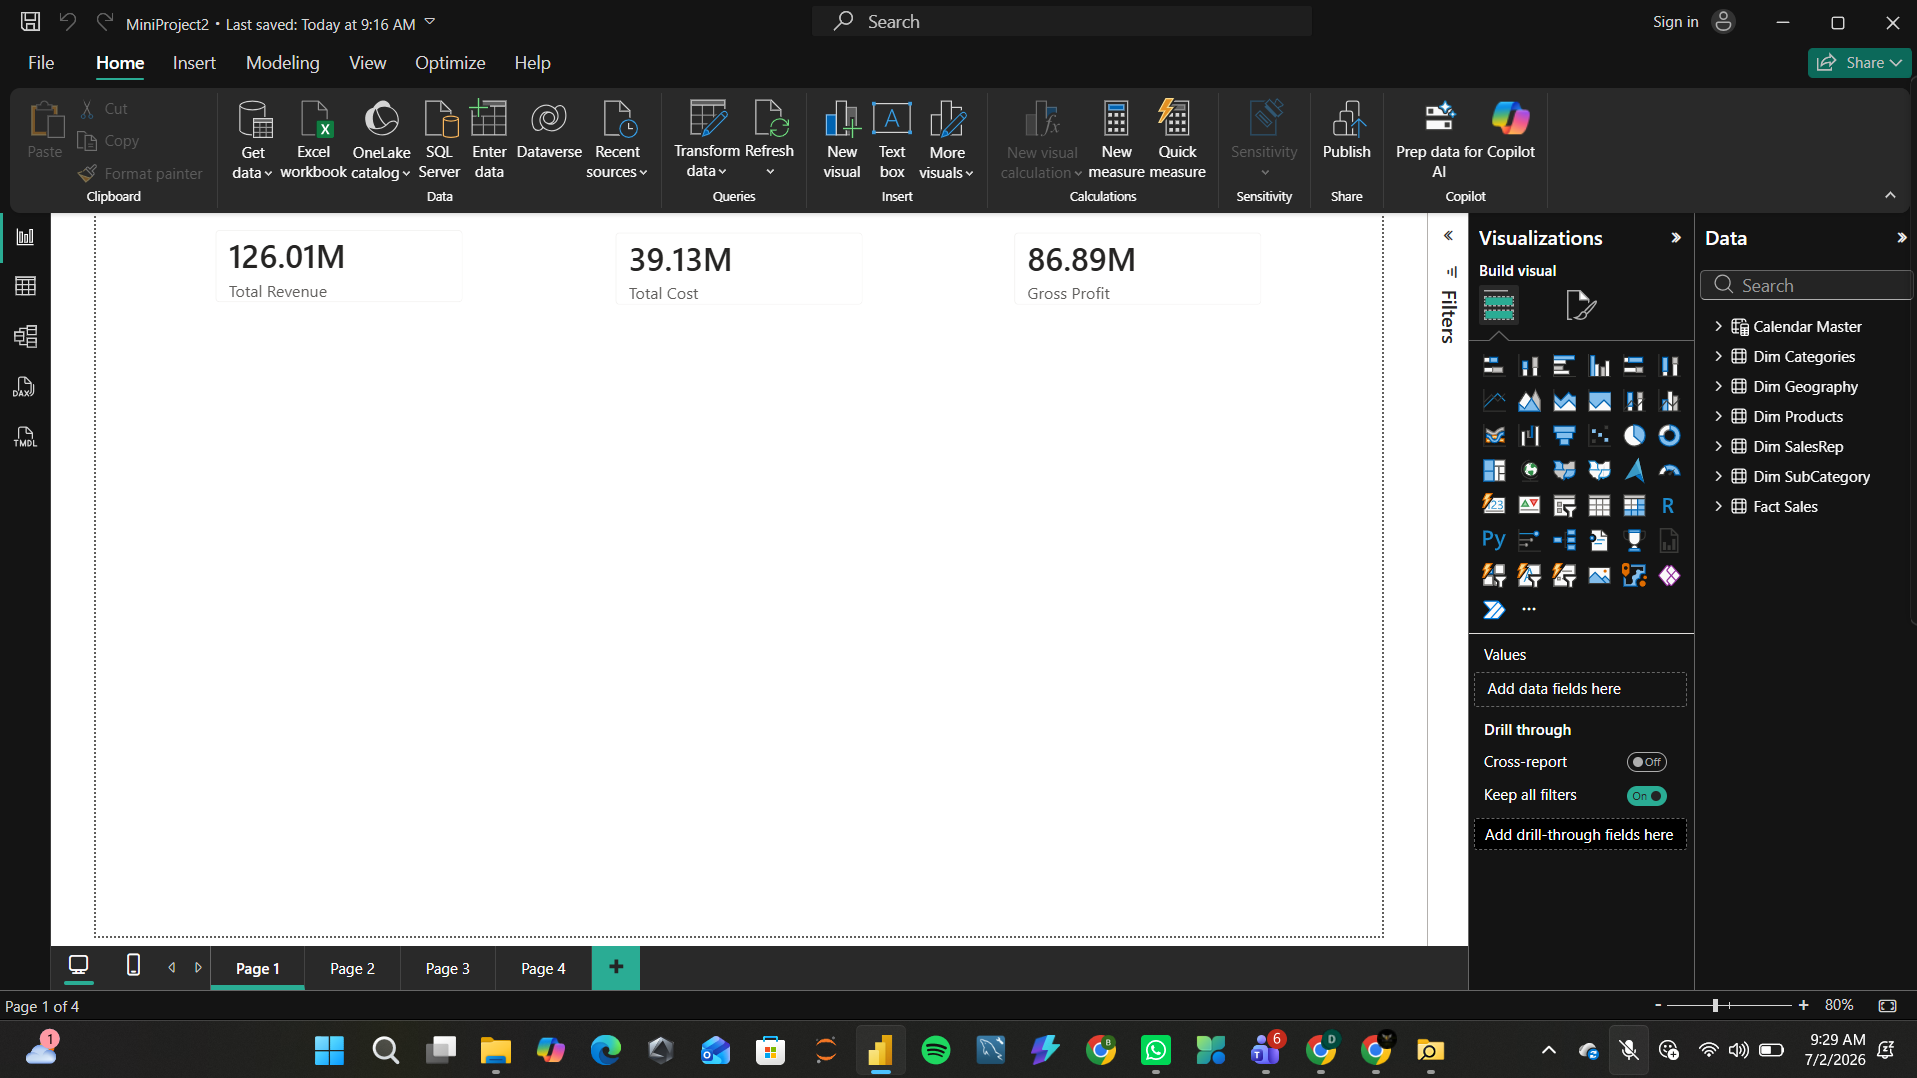

This screenshot's page, from the dashboard's own definition file:
{"tool":"powerbi","page":{"name":"Page 1","canvas":[1280,720],"ordinal":0},"visuals":[{"type":"cardVisual","fields":{"Data":["Fact Sales.Total Revenue"]},"box":[102.1,0,281,106.9],"z":0},{"type":"cardVisual","fields":{"Data":["Fact Sales.Total Cost"]},"box":[499.5,2.4,281,106.9],"z":1000},{"type":"cardVisual","fields":{"Data":["Fact Sales.Gross Profit"]},"box":[897,2.4,281,106.9],"z":2000}]}

Visuals, with their boxes on the page's 1280x720 design canvas (x1, y1, x2, y2). These are canvas units, not pixel positions in the 1917x1078 screenshot, which may show the page scaled, cropped or inside an application window:
cardVisual - Fact Sales.Total Revenue: box(102, 0, 383, 107)
cardVisual - Fact Sales.Total Cost: box(500, 2, 780, 109)
cardVisual - Fact Sales.Gross Profit: box(897, 2, 1178, 109)
